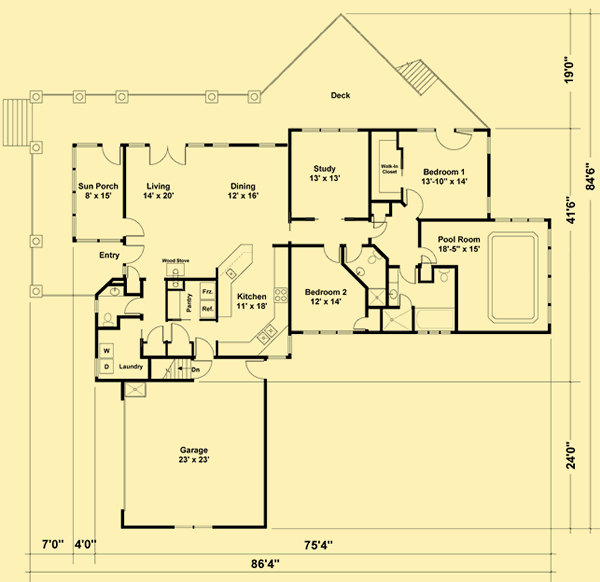door: (146, 139, 192, 168), (431, 125, 474, 151), (119, 213, 149, 241), (122, 242, 152, 267), (404, 185, 426, 219), (96, 141, 123, 168), (319, 239, 343, 266), (191, 357, 215, 383), (244, 358, 271, 381), (143, 324, 170, 346), (341, 241, 365, 265), (121, 296, 147, 318), (416, 244, 441, 266), (167, 321, 191, 342), (193, 336, 218, 356), (397, 262, 418, 285), (353, 313, 373, 333)
large sink: (366, 249, 386, 268), (97, 310, 118, 328), (437, 268, 455, 285)
small sink: (388, 282, 401, 309), (100, 284, 124, 298), (352, 265, 367, 279)
stairs: (392, 54, 443, 97), (2, 97, 39, 150), (148, 357, 202, 384)
tub: (411, 305, 456, 331)
windows: (297, 323, 352, 339), (299, 125, 360, 138), (75, 234, 120, 249), (491, 215, 545, 224), (483, 191, 495, 217), (210, 139, 233, 152), (484, 134, 496, 157), (255, 139, 276, 152)
